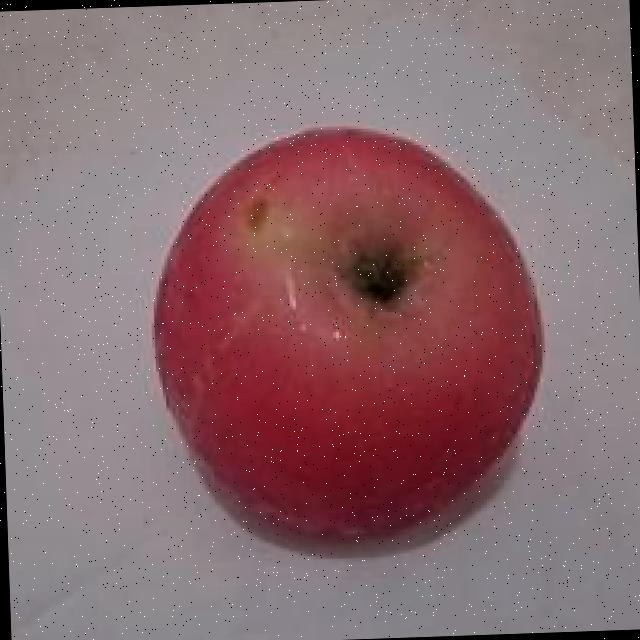apple: (109, 96, 572, 580)
